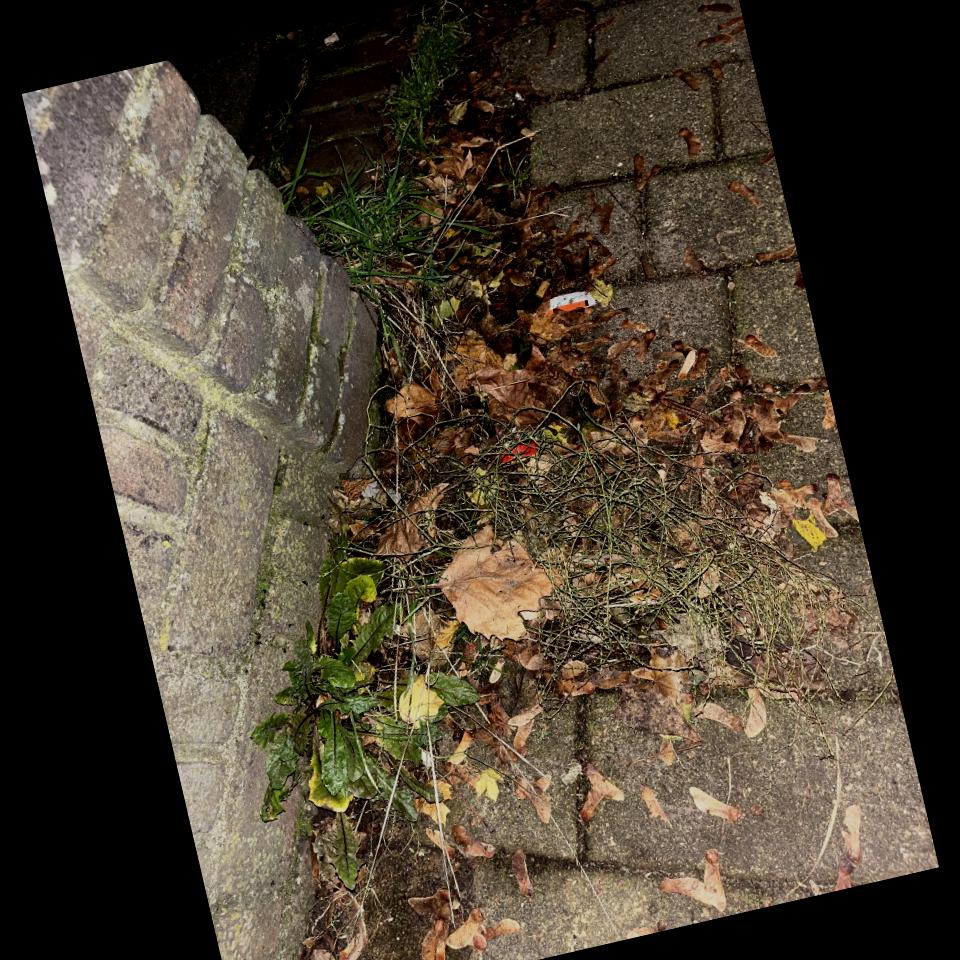weed: (251, 605, 433, 819), (280, 148, 449, 337), (385, 10, 466, 151), (429, 673, 477, 739)
